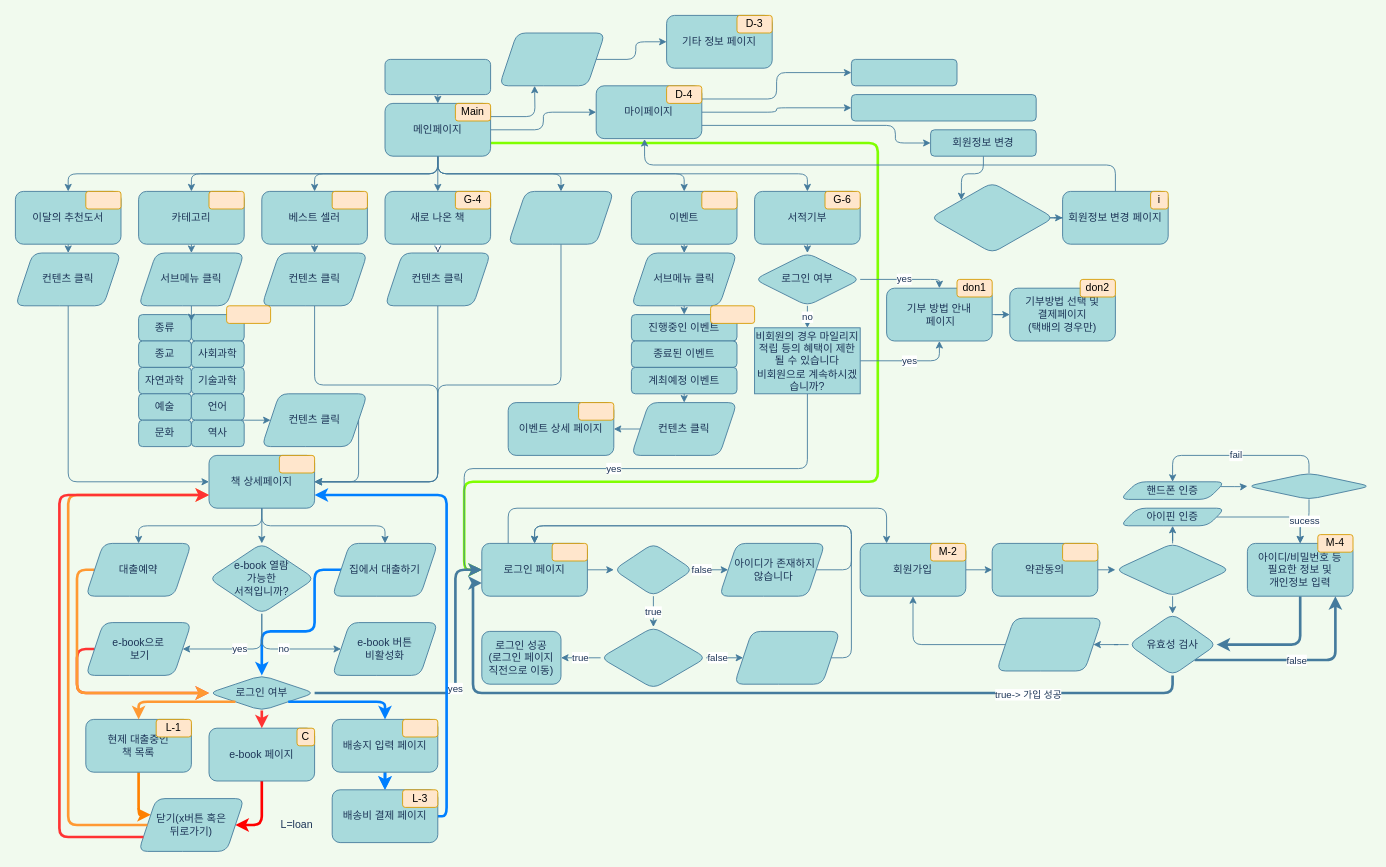
This 1386x867 diagram has some shape labels left out. The centre of each missing label's shape, as x and y in pixels:
5분내로 전송: point (1309, 485)
D-1: point (297, 464)
D-2: point (596, 411)
G-1: point (103, 200)
G-2: point (226, 200)
G-3: point (349, 200)
G-5: point (719, 200)
L-2: point (420, 728)
M-1: point (569, 552)
M-3: point (1080, 552)
S-2-1~8: point (248, 314)
S-5-1~3: point (732, 314)
기타 정보 관련 컨텐츠 클릭: point (552, 59)
대출목록: point (904, 72)
로딩: point (437, 77)
마일리지 및 대출 가능 권수 확인: point (943, 107)
메인페이지 내의 컨텐츠 클릭: point (560, 217)
본인인증: point (1172, 569)
비밀번호 유효성검사: point (653, 657)
비밀번호 입력 유효성 검사: point (992, 217)
비밀번호가 일치하지 않습니다: point (786, 657)
아이디 유효성검사: point (653, 569)
에러메세지 이미 가입된 회원입니다: point (1049, 644)
철학: point (217, 327)
